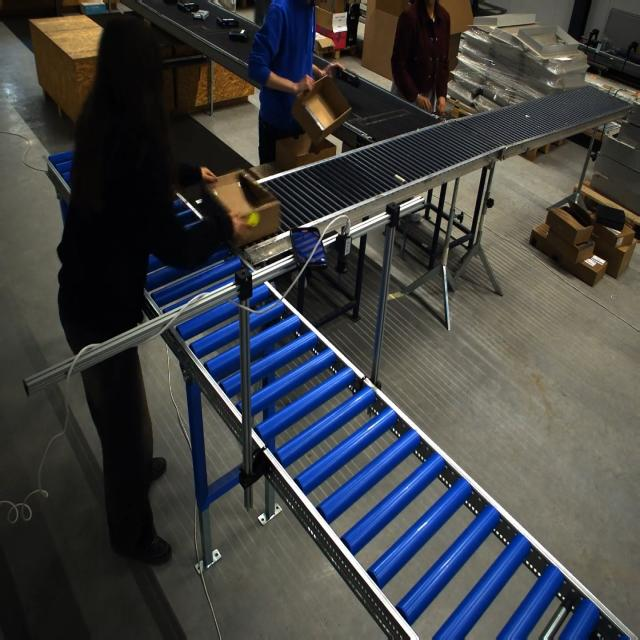box: (203, 167, 280, 245)
product: (331, 66, 359, 89), (228, 29, 249, 42), (177, 1, 199, 13), (216, 16, 237, 28), (192, 10, 209, 20)
